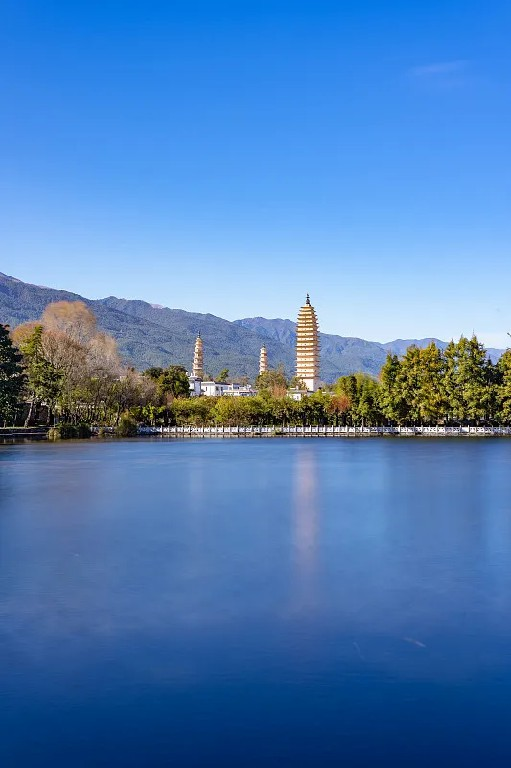ThreePagoda: (294, 294, 322, 394)
